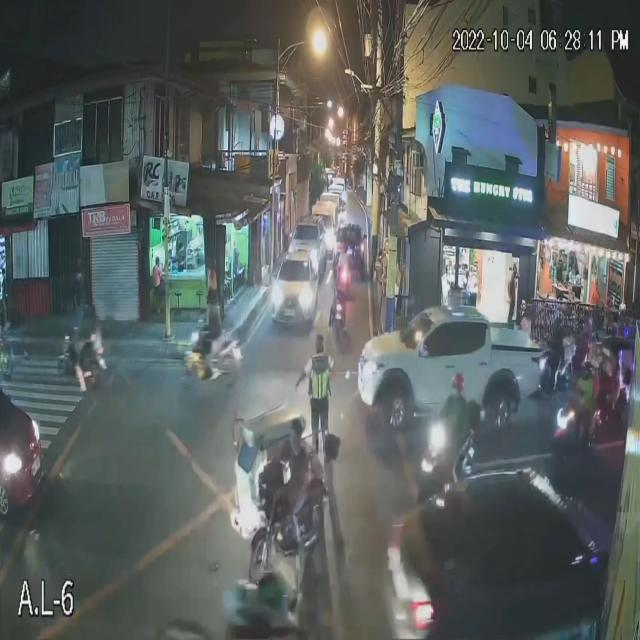Full-Faced: (449, 368, 466, 400), (580, 359, 596, 385)
